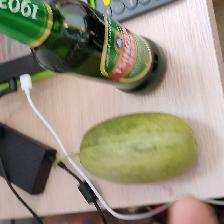gua: (54, 112, 199, 173)
